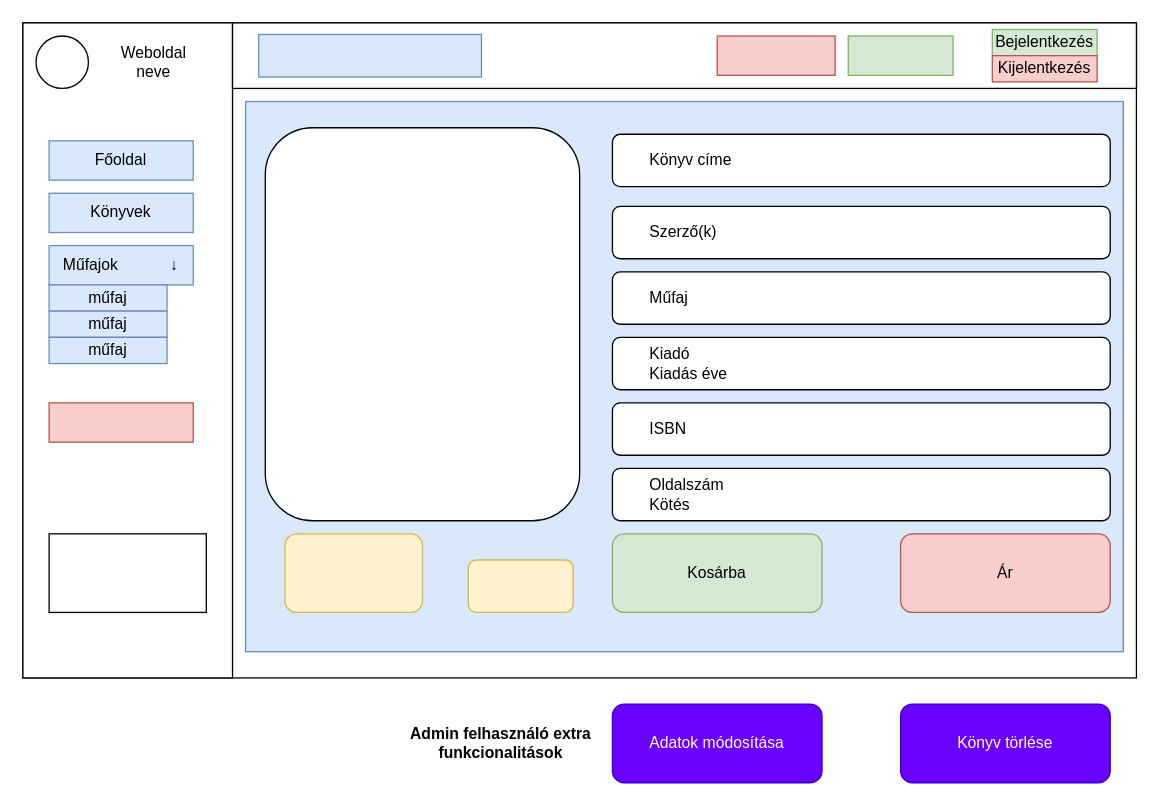
This 1159x806 diagram has some shape labels left out. The centre of each missing label's shape, as x and y in pixels:
"Borító" goes at (422,323).
"Kedvenc könyvek" goes at (120,422).
"Keresés" goes at (369,55).
"Kosaram" goes at (775,55).
"Logo" goes at (61,61).
"Regisztráció" goes at (900,55).
"ÁSZF Kapcsolat" goes at (127,572).
"Átlag értékelés" goes at (353,572).
"Értékel" goes at (520,585).
